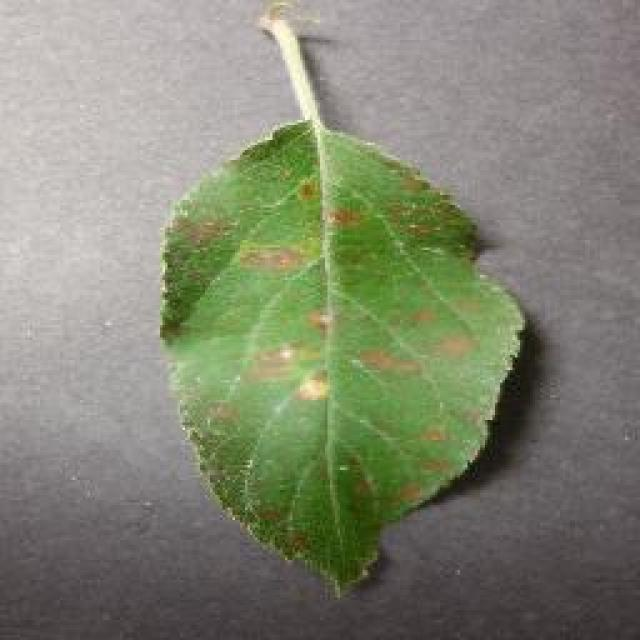apple healthy: (155, 0, 527, 598)
